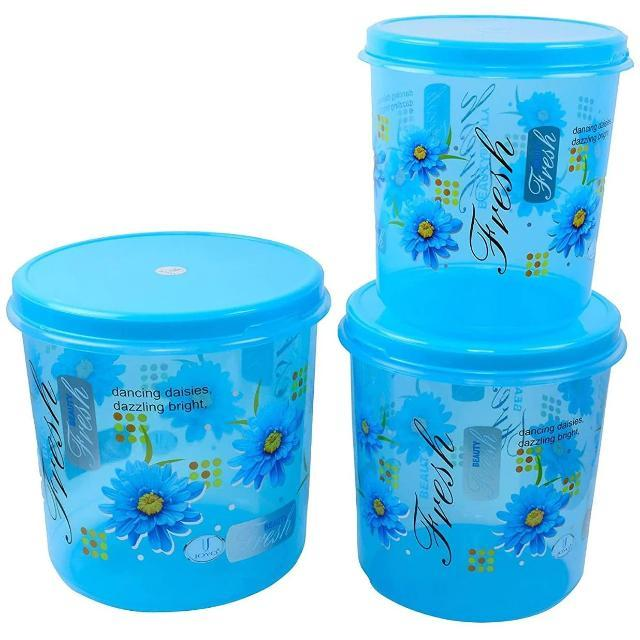plastic: (338, 16, 631, 620), (7, 232, 330, 611)
